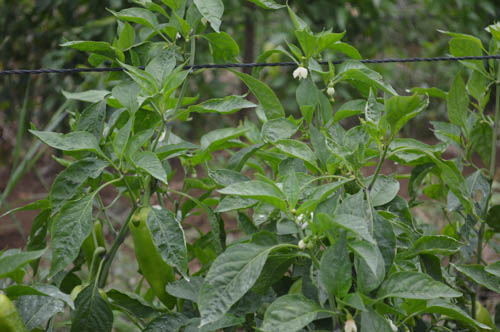ChiliPepper: (132, 208, 177, 306)
